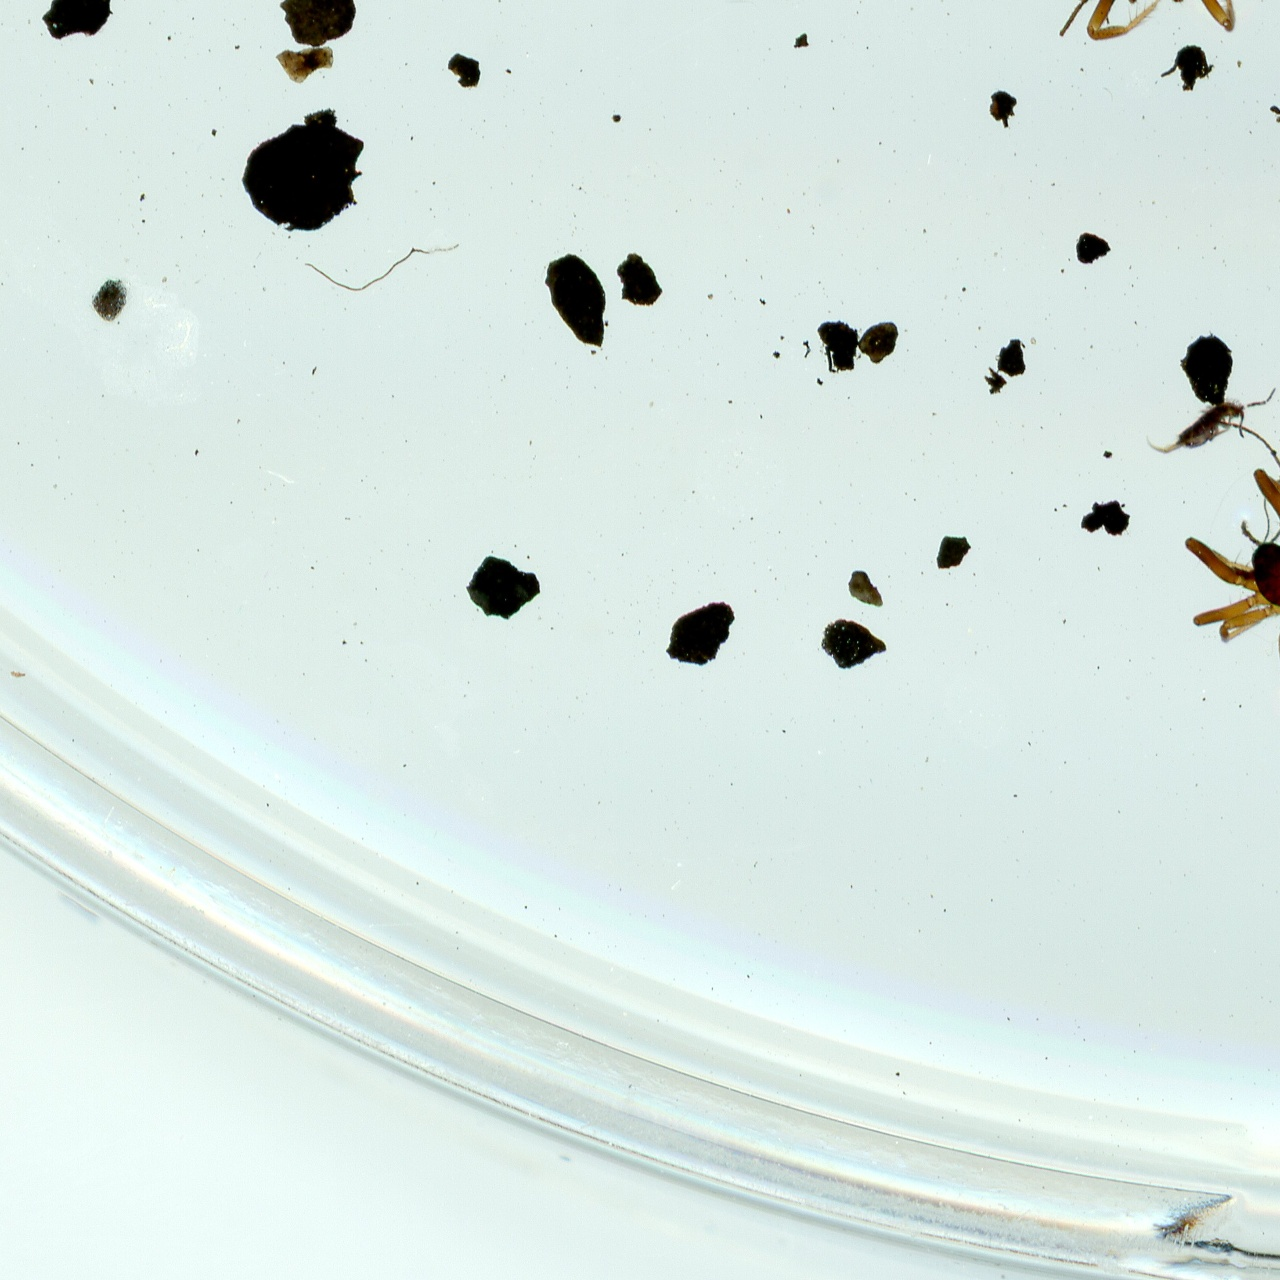arthropod: (1180, 467, 1280, 706), (1133, 375, 1280, 474), (1054, 0, 1242, 45)
